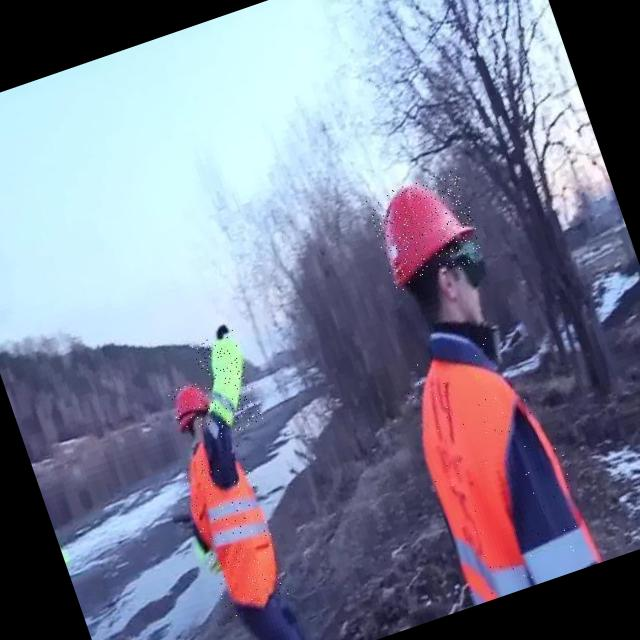hard_hat: (364, 167, 488, 292), (166, 378, 218, 433)
safety_vest: (394, 318, 602, 601), (174, 442, 296, 619), (189, 329, 264, 437)
